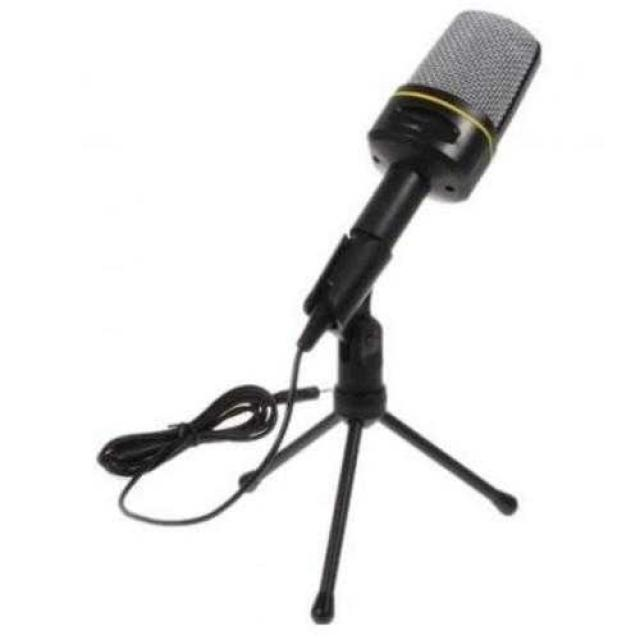microphone: (307, 11, 538, 352)
